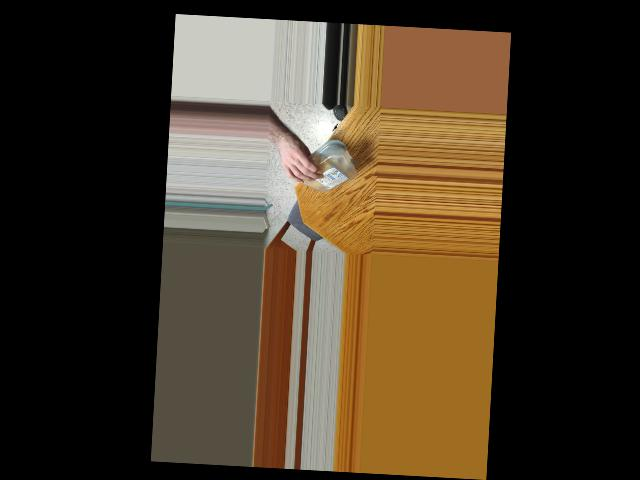cheese: (289, 140, 359, 194)
